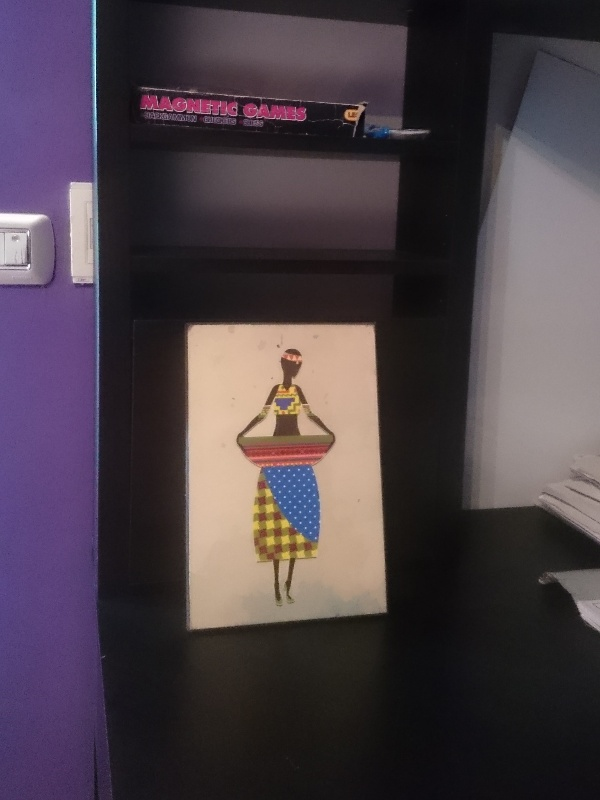my image: (187, 323, 385, 628)
